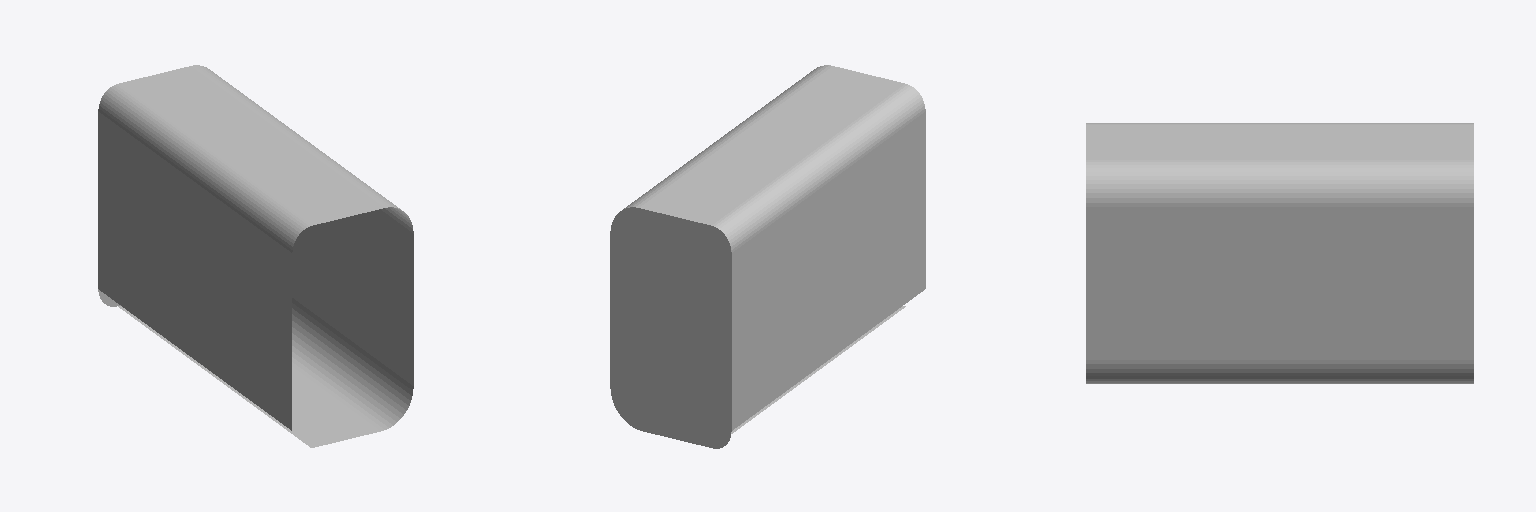
Rendered from original-16.obj.
3 renders of one model, left to right at view 1: azimuth 30°, elevation 25°; view 2: azimuth 150°, elevation 25°; view 3: azimuth 270°, elevation 25°, orthographic.
Visible parts, largest first — view 1: #ID1129; view 2: #ID1129; view 3: #ID1129.
Boxes of the visible parts, x1=… form: #ID1129: x1=98, y1=65, x2=413, y2=447; #ID1129: x1=610, y1=65, x2=925, y2=448; #ID1129: x1=1086, y1=123, x2=1473, y2=383.
Size of the model in its own units: 0.0077 by 0.0135 by 0.0213.